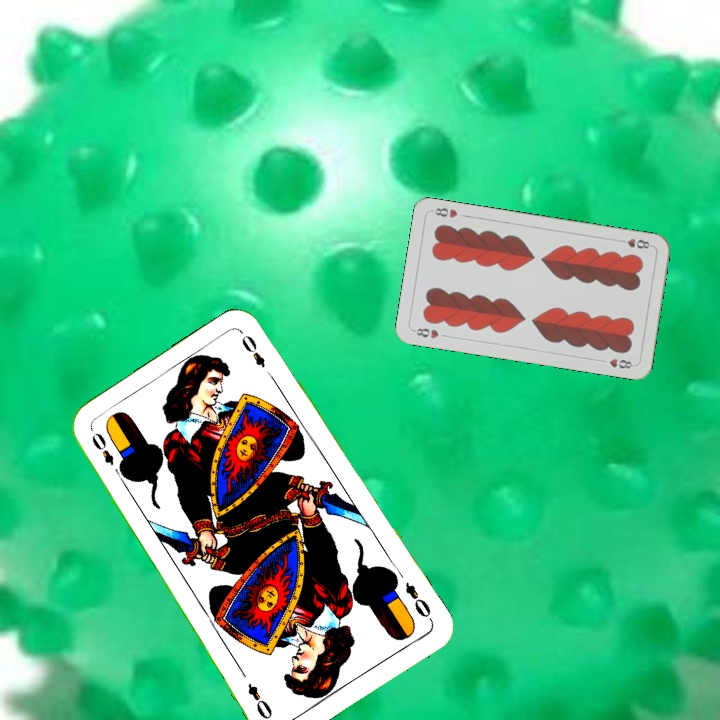EO: (87, 428, 125, 479), (401, 577, 435, 624)
H8: (614, 234, 655, 251), (409, 324, 441, 341)
